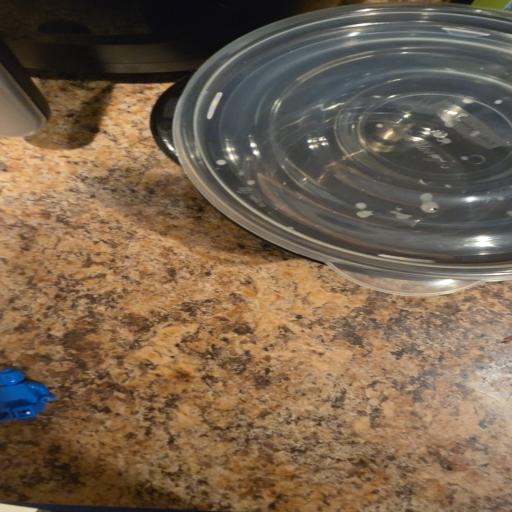Blue: (0, 369, 55, 421)
